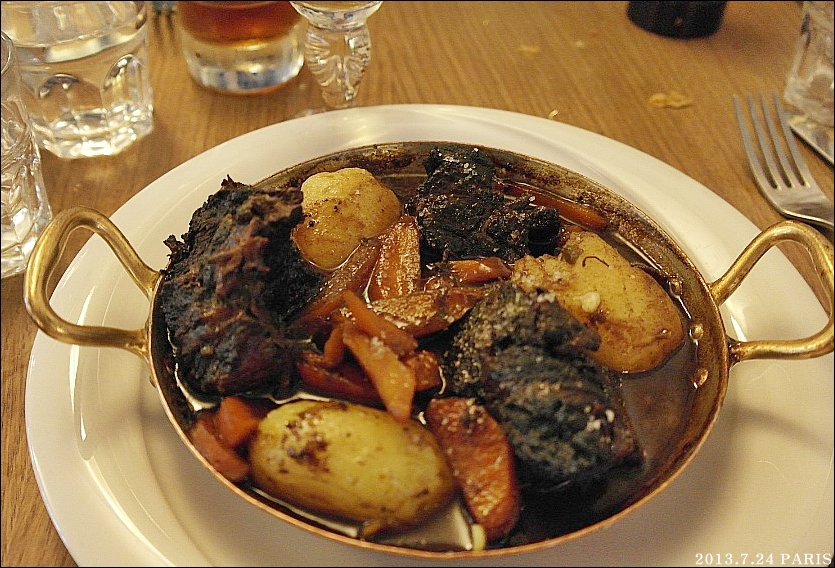boiled potatoes: (268, 396, 442, 519)
